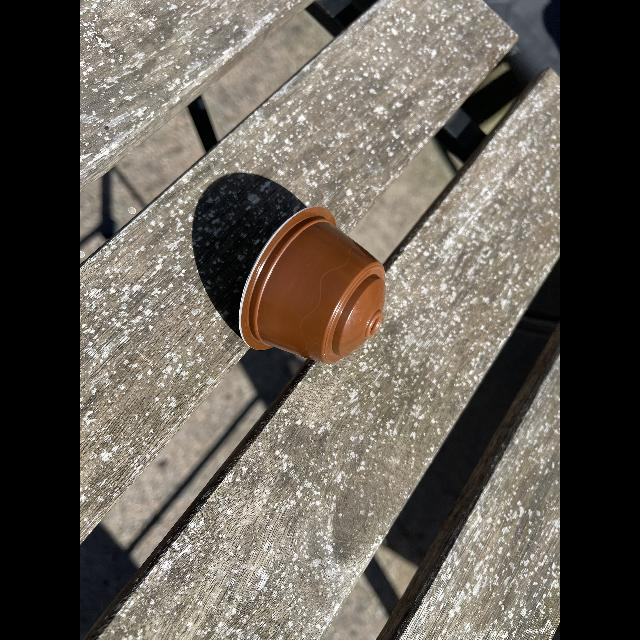intact_capsule: (225, 194, 409, 376)
